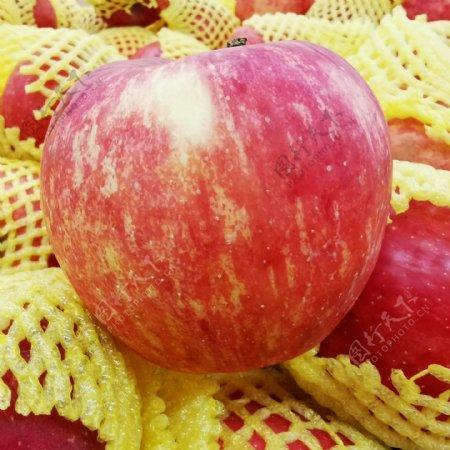apple: (39, 37, 391, 384)
